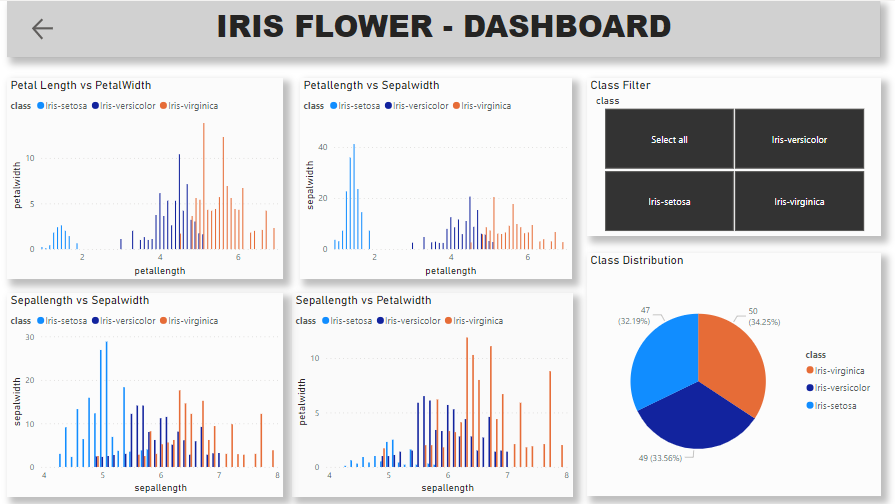

This screenshot's page, from the dashboard's own definition file:
{"tool":"powerbi","page":{"name":"Page 2","canvas":[1280,720],"ordinal":1},"visuals":[{"type":"clusteredColumnChart","title":"Sepallength vs Sepalwidth","fields":{"Category":["Sheet1.sepallength"],"Series":["Sheet1.class"],"Y":["Sum(Sheet1.sepalwidth)"]},"box":[10.2,415.6,393.7,291.2],"z":0},{"type":"slicer","title":"Class Filter","fields":{"Values":["Sheet1.class"]},"box":[837.1,109.8,418.5,225.4],"z":1000},{"type":"clusteredColumnChart","title":"Petal Length vs PetalWidth","fields":{"Category":["Sheet1.petallength"],"Series":["Sheet1.class"],"Y":["Sum(Sheet1.petalwidth)"]},"box":[10.2,109.8,393.7,286.8],"z":2000},{"type":"clusteredColumnChart","title":"Petallength vs Sepalwidth","fields":{"Category":["Sheet1.petallength"],"Y":["Sum(Sheet1.sepalwidth)"],"Series":["Sheet1.class"]},"box":[427.3,109.8,387.8,286.8],"z":3000},{"type":"clusteredColumnChart","title":"Sepallength vs Petalwidth","fields":{"Category":["Sheet1.sepallength"],"Y":["Sum(Sheet1.petalwidth)"],"Series":["Sheet1.class"]},"box":[415.6,415.6,399.5,291.2],"z":4000},{"type":"pieChart","title":"Class Distribution","fields":{"Category":["Sheet1.class"],"Y":["Sheet1.Total rows"]},"box":[837.1,360,418.5,346.8],"z":5000},{"type":"textbox","box":[10.2,0,1245.4,80.5],"z":6000},{"type":"actionButton","box":[41,20.5,99.5,39.5],"z":6001}]}

Visuals, with their boxes in screenshot pixels (x1, y1, x2, y2), scaled from the page's 1280x720 canvas onto the 895x504 screenshot:
"Sepallength vs Sepalwidth" clusteredColumnChart: [x1=7, y1=291, x2=282, y2=495]
"Class Filter" slicer: [x1=585, y1=77, x2=878, y2=235]
"Petal Length vs PetalWidth" clusteredColumnChart: [x1=7, y1=77, x2=282, y2=278]
"Petallength vs Sepalwidth" clusteredColumnChart: [x1=299, y1=77, x2=570, y2=278]
"Sepallength vs Petalwidth" clusteredColumnChart: [x1=291, y1=291, x2=570, y2=495]
"Class Distribution" pieChart: [x1=585, y1=252, x2=878, y2=495]
textbox: [x1=7, y1=0, x2=878, y2=56]
actionButton: [x1=29, y1=14, x2=98, y2=42]
